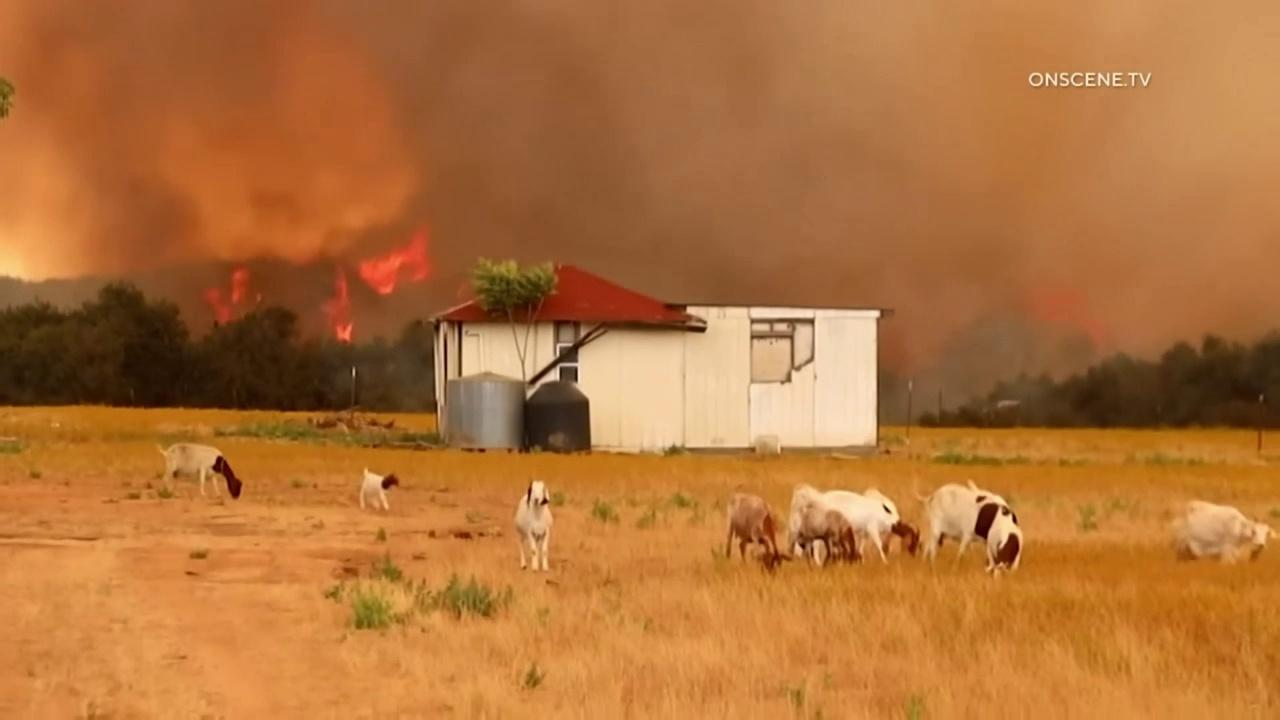fire: (359, 227, 432, 295), (199, 267, 252, 328), (321, 264, 355, 344)
smoke: (0, 0, 1280, 426)
